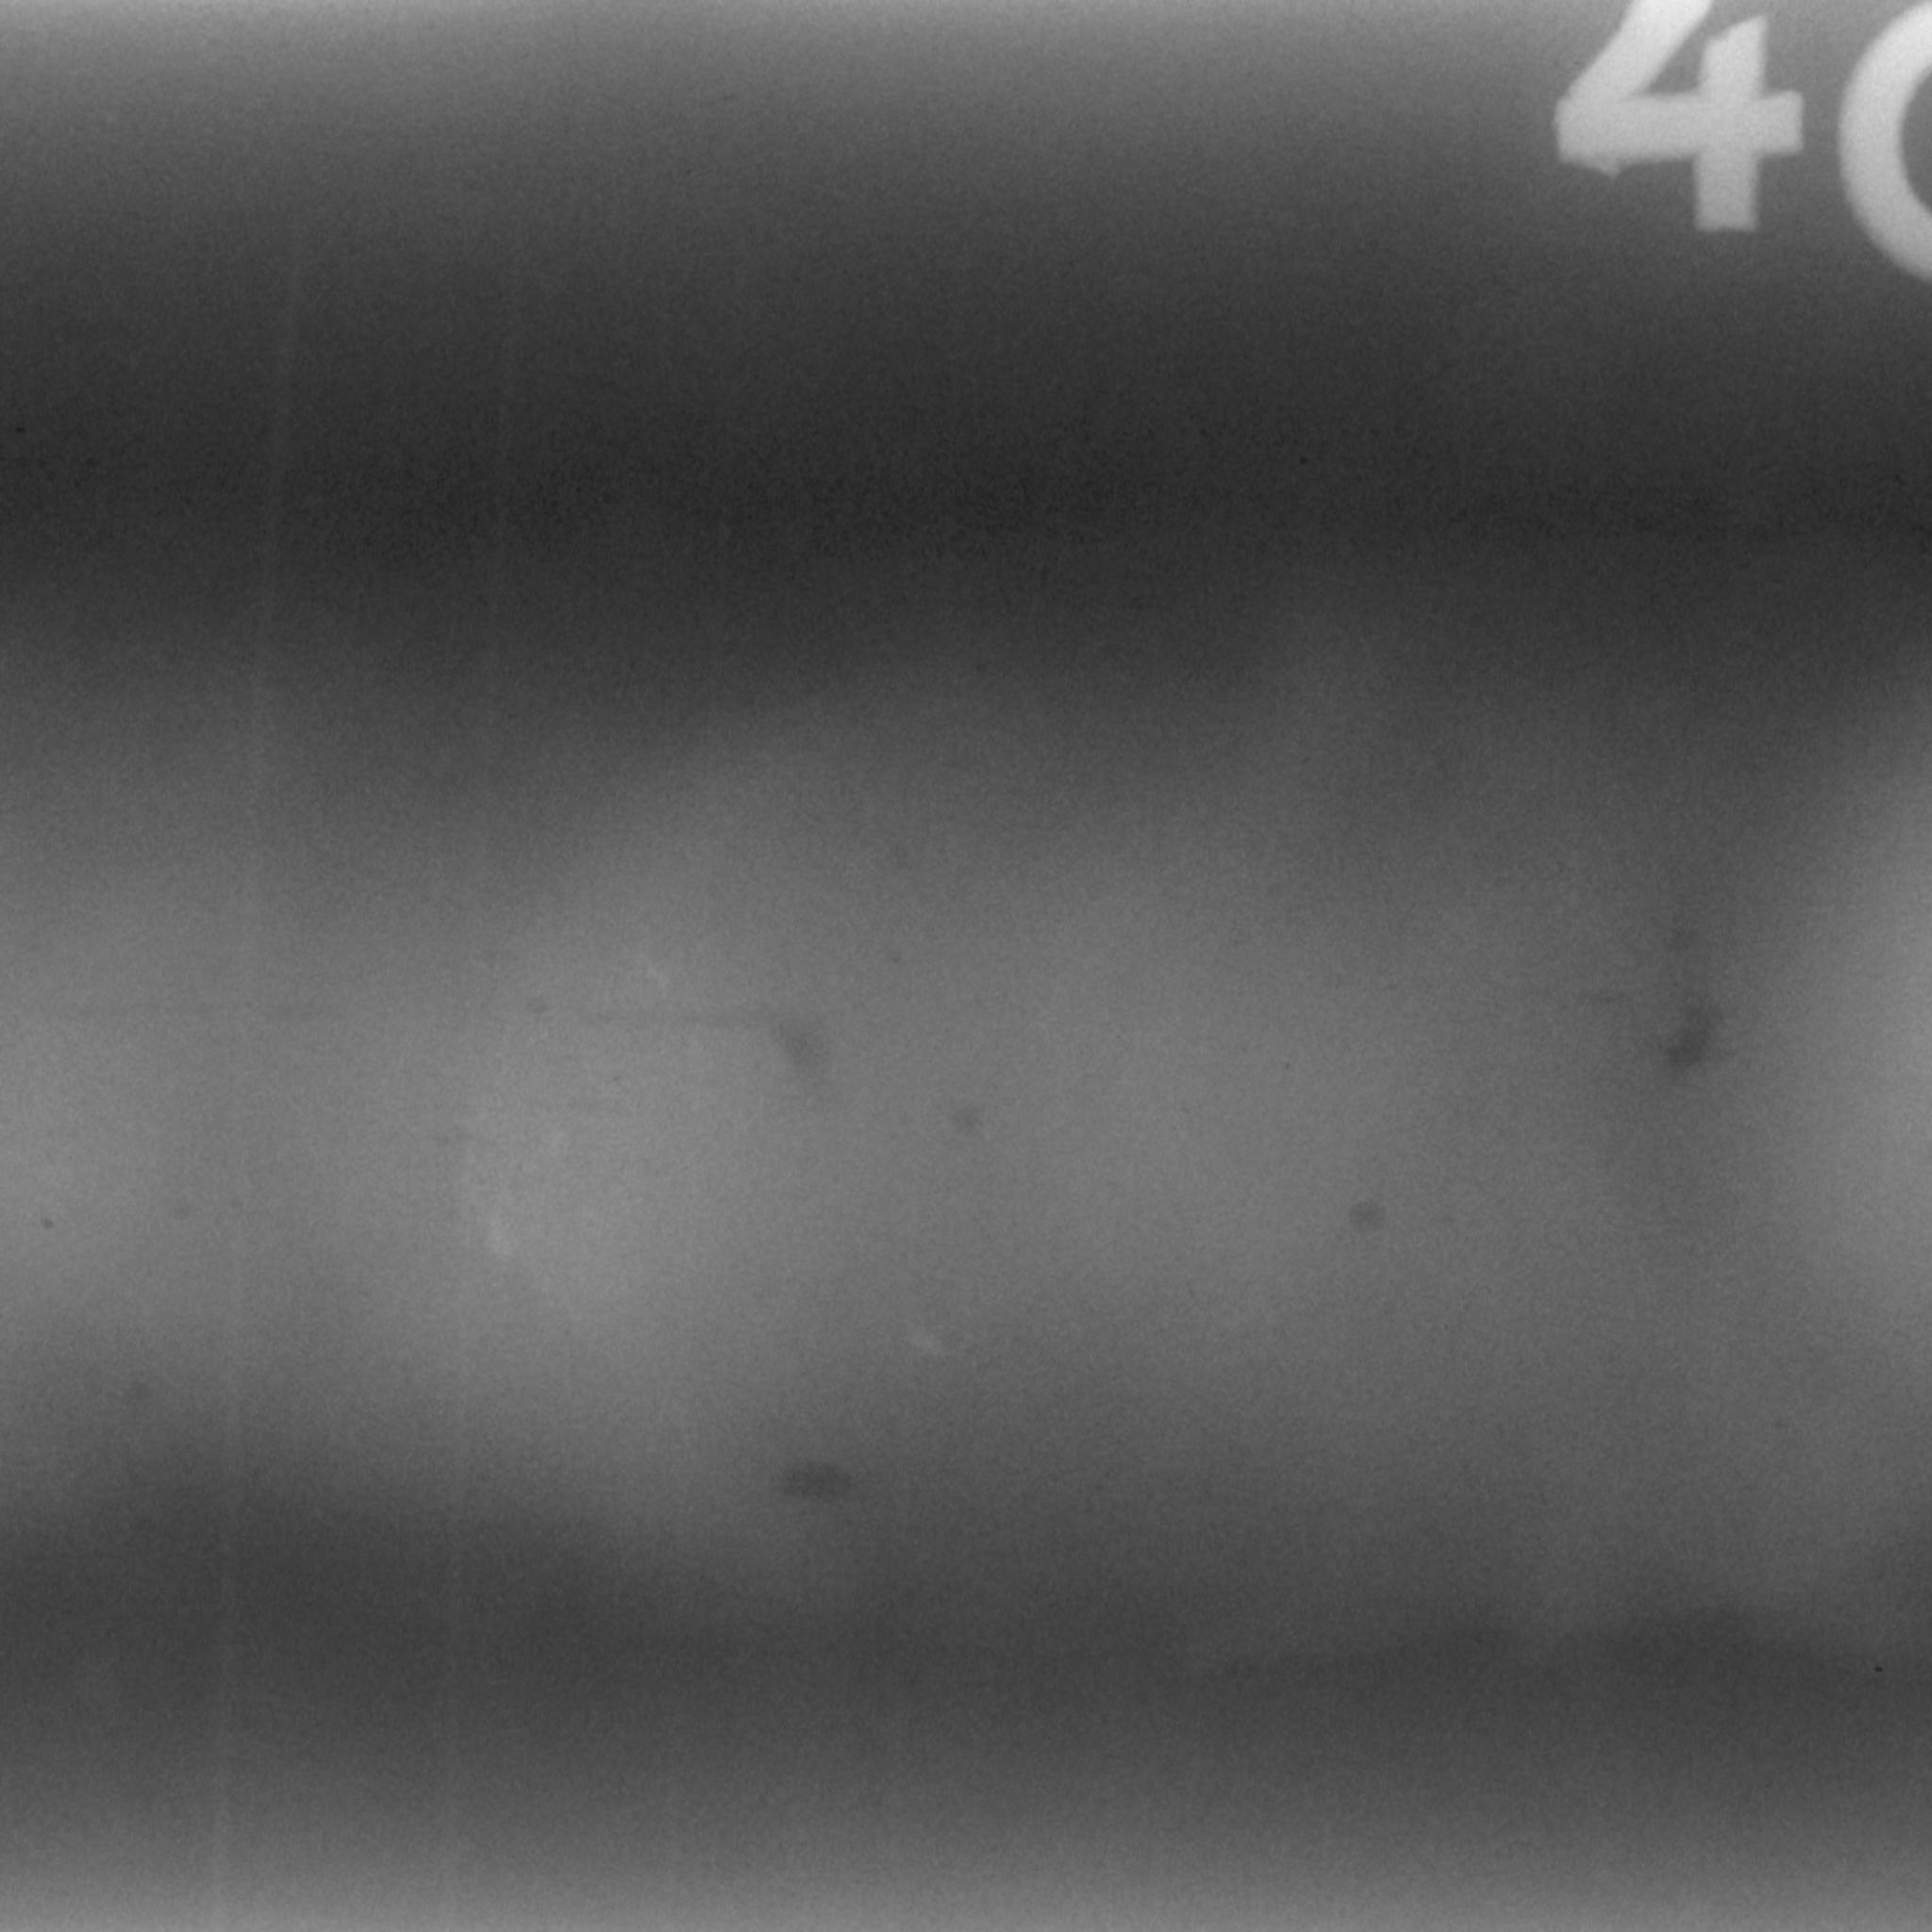PO: (755, 1437, 870, 1525), (143, 1166, 230, 1244), (855, 916, 936, 998), (1325, 1180, 1405, 1253), (99, 1352, 173, 1424), (931, 1086, 1001, 1148), (1755, 1394, 1810, 1458), (27, 1200, 74, 1242)
Solda Ruim: (0, 456, 1932, 1730)
